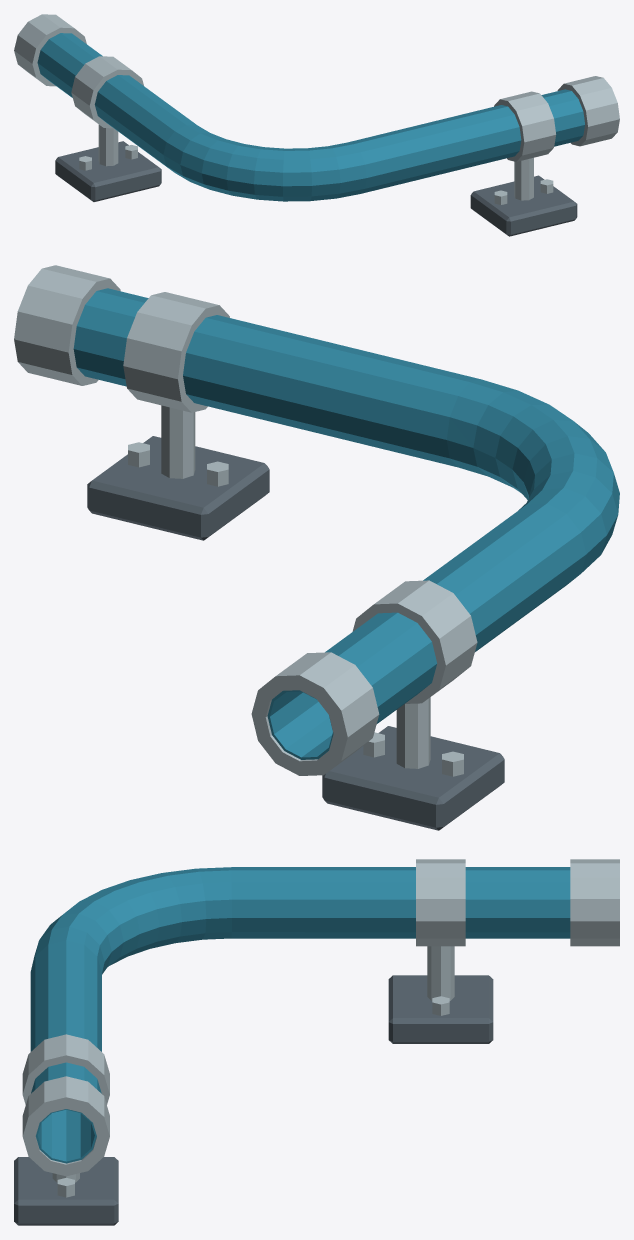
Rendered from 01_pipe_water_floor_elbow.glb.
The picture shows the model from 3 angles, top to bottom: view 1: azimuth 30°, elevation 25°; view 2: azimuth 150°, elevation 25°; view 3: azimuth 270°, elevation 25°; orthographic projection. The views are drawn at different scales.
Visible parts, largest first — view 1: 01_pipe_water_floor_elbow; view 2: 01_pipe_water_floor_elbow; view 3: 01_pipe_water_floor_elbow.
Boxes of the visible parts, x1,y1,x2,y2 form: 01_pipe_water_floor_elbow: (14, 14, 619, 236); 01_pipe_water_floor_elbow: (14, 265, 619, 830); 01_pipe_water_floor_elbow: (14, 859, 619, 1225).
Bounding box in the file's own units: 1.1 × 0.3193 × 1.1.
